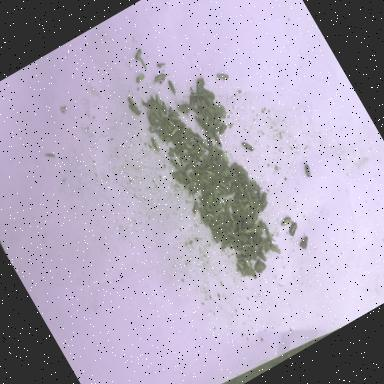pbw: (232, 258, 249, 279), (174, 98, 190, 118), (277, 211, 294, 228), (286, 220, 302, 237), (139, 94, 154, 112), (298, 235, 314, 251), (150, 70, 168, 84), (239, 252, 253, 270), (301, 160, 315, 178), (242, 138, 256, 155), (258, 217, 272, 234), (188, 101, 202, 118), (167, 80, 180, 98), (128, 102, 142, 118), (219, 212, 233, 228), (216, 120, 230, 136), (216, 224, 230, 240), (200, 90, 214, 106), (234, 166, 247, 183), (150, 138, 162, 156), (258, 190, 272, 205), (144, 110, 158, 125), (260, 240, 273, 256), (171, 158, 184, 174), (204, 136, 217, 152), (210, 228, 223, 244), (193, 79, 206, 95), (163, 102, 176, 118), (127, 96, 140, 112), (250, 180, 264, 194), (251, 258, 265, 272), (173, 116, 187, 130), (216, 70, 230, 84), (213, 152, 225, 168), (242, 262, 254, 278), (148, 94, 160, 110), (240, 176, 252, 192), (239, 225, 253, 238), (203, 86, 216, 100), (250, 208, 263, 222), (132, 48, 145, 62), (242, 176, 255, 190), (210, 123, 224, 136), (193, 114, 206, 128), (192, 162, 205, 176), (180, 134, 193, 148), (188, 151, 200, 166), (167, 125, 182, 137), (176, 121, 189, 134), (221, 166, 234, 179), (172, 169, 185, 182), (168, 108, 182, 120), (212, 134, 224, 148), (245, 224, 259, 236), (246, 236, 258, 250), (159, 101, 171, 115), (204, 150, 218, 162), (238, 164, 250, 178), (196, 139, 207, 154), (226, 182, 239, 194), (190, 201, 202, 214), (192, 131, 204, 144), (218, 178, 230, 191), (272, 243, 284, 256), (220, 150, 231, 164), (265, 230, 276, 244), (171, 137, 182, 151), (219, 174, 230, 188), (203, 214, 214, 228), (178, 156, 189, 170), (192, 182, 204, 194), (158, 126, 170, 138), (170, 112, 182, 124), (216, 213, 228, 225), (203, 122, 215, 134), (160, 132, 172, 144), (186, 94, 197, 107), (236, 180, 246, 194), (238, 232, 248, 246), (198, 148, 208, 162), (166, 116, 176, 130), (192, 150, 202, 164), (210, 154, 220, 168), (206, 104, 216, 118), (202, 140, 212, 154), (200, 215, 210, 229), (224, 197, 236, 208), (184, 140, 195, 152), (214, 183, 225, 195), (205, 167, 216, 179), (255, 189, 266, 201), (252, 232, 263, 244), (152, 119, 164, 130), (150, 100, 160, 113), (184, 169, 194, 182), (229, 226, 239, 239), (197, 104, 207, 117), (256, 237, 267, 248), (184, 162, 196, 172), (212, 113, 224, 123), (246, 195, 256, 207), (135, 74, 147, 84), (235, 186, 245, 198), (173, 130, 183, 142), (250, 248, 260, 260), (203, 162, 215, 172), (190, 171, 200, 183), (237, 246, 247, 258), (217, 190, 228, 200), (244, 216, 255, 226), (237, 257, 248, 267), (235, 221, 245, 232), (200, 182, 210, 193), (214, 219, 224, 230), (250, 268, 259, 280), (260, 200, 270, 210), (214, 200, 224, 210), (204, 130, 214, 140), (177, 147, 187, 157), (188, 186, 198, 196), (202, 115, 212, 125), (248, 187, 257, 198), (156, 60, 167, 69), (204, 174, 212, 186), (199, 174, 208, 184), (198, 161, 208, 170), (229, 171, 239, 180), (210, 198, 220, 207), (191, 90, 201, 99), (229, 235, 239, 244), (158, 107, 166, 118), (154, 109, 162, 120), (242, 202, 251, 211), (258, 244, 268, 252), (230, 162, 240, 170), (230, 221, 238, 231), (240, 243, 248, 253), (154, 94, 162, 104), (245, 208, 254, 216), (240, 196, 249, 204), (227, 176, 236, 184), (216, 208, 225, 216), (228, 214, 236, 222), (184, 182, 192, 190), (237, 238, 244, 247), (237, 197, 244, 205), (207, 211, 214, 219)
